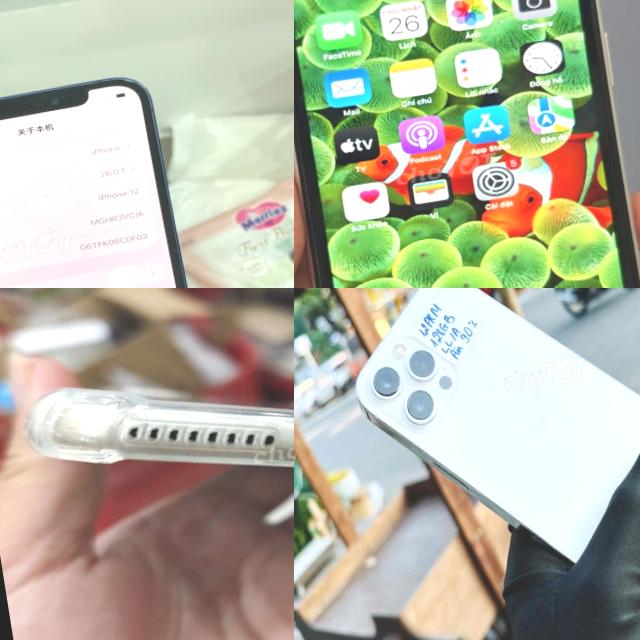gen_12_13: (357, 288, 640, 561), (0, 69, 222, 288)
gen_7_8: (17, 297, 294, 577)
gen_x_xs: (294, 0, 640, 288)
